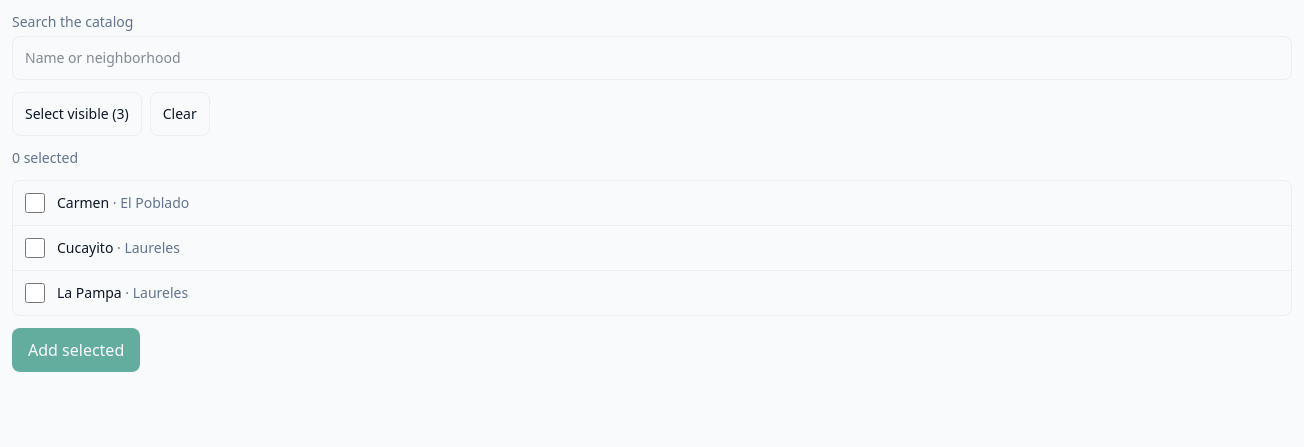
Test: RestaurantPicker › submits exactly the selected ids and the contest
Click the checkbox with test id "contest-picker-option" showing "Carmen · El Poblado" at (35, 203), box x1=25 y1=193 x2=45 y2=213
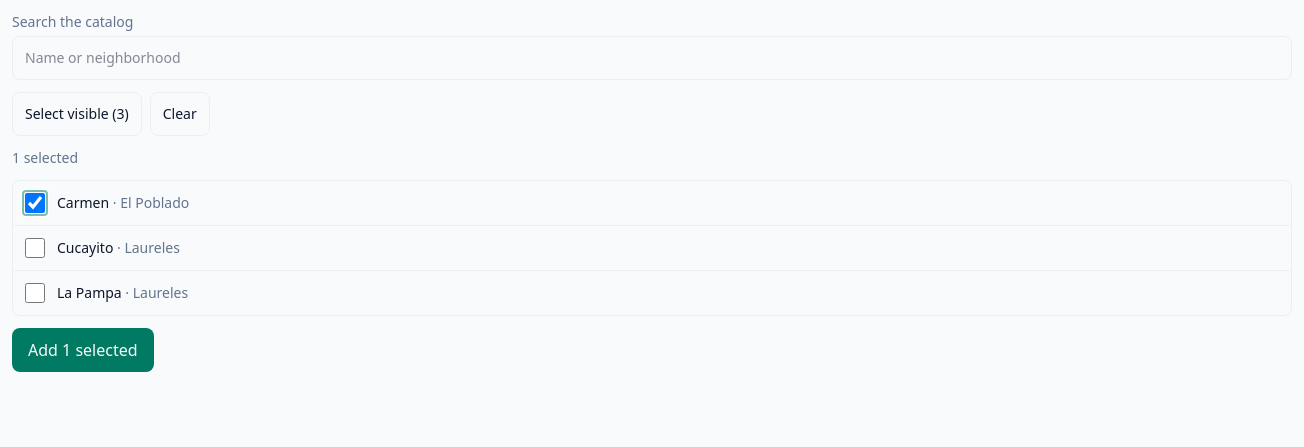
Click the button with test id "contest-link-submit" at (83, 350), box x1=12 y1=328 x2=154 y2=372
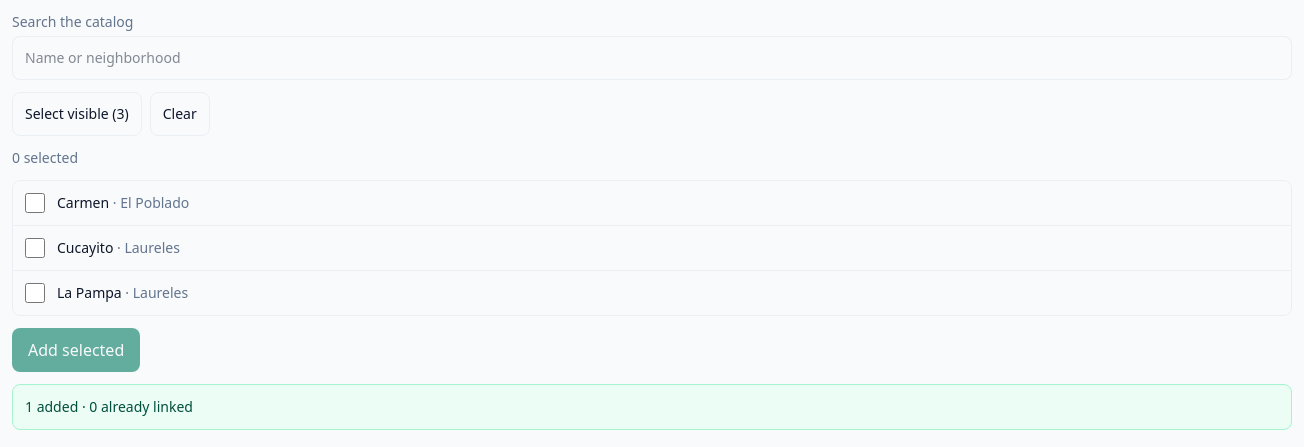
expect the text "1 added · 0 already linked" is shown: met, box x1=25 y1=397 x2=193 y2=416
